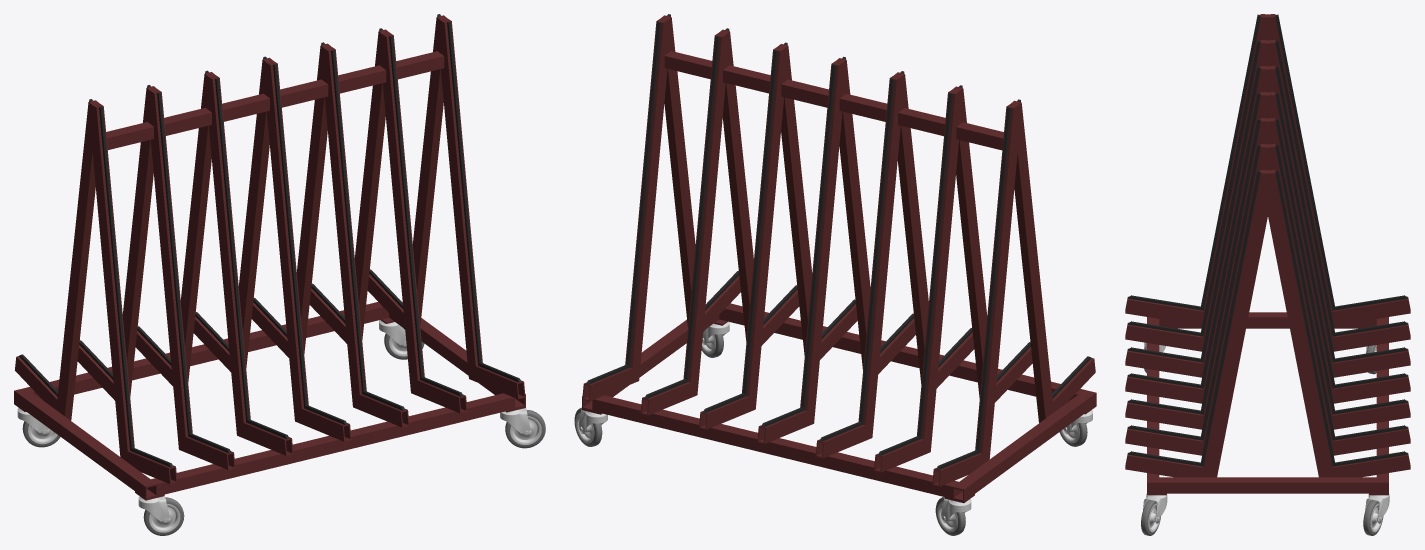
File: asset.glb
3 views of the same model, side by side, from view 1: azimuth 30°, elevation 25°; view 2: azimuth 150°, elevation 25°; view 3: azimuth 270°, elevation 25° (orthographic). The views are drawn at different scales.
Parts seen in each view (by area): view 1: Staender.001; view 2: Staender.001; view 3: Staender.001.
Boxes of the visible parts, left/top/right/bottom form: Staender.001: left=14, top=14, right=545, bottom=535; Staender.001: left=574, top=14, right=1096, bottom=535; Staender.001: left=1125, top=14, right=1410, bottom=535.
Size of the model in its own units: 0.2667 by 0.247 by 0.1799.
